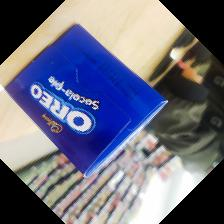Oreo: (4, 23, 168, 180)
